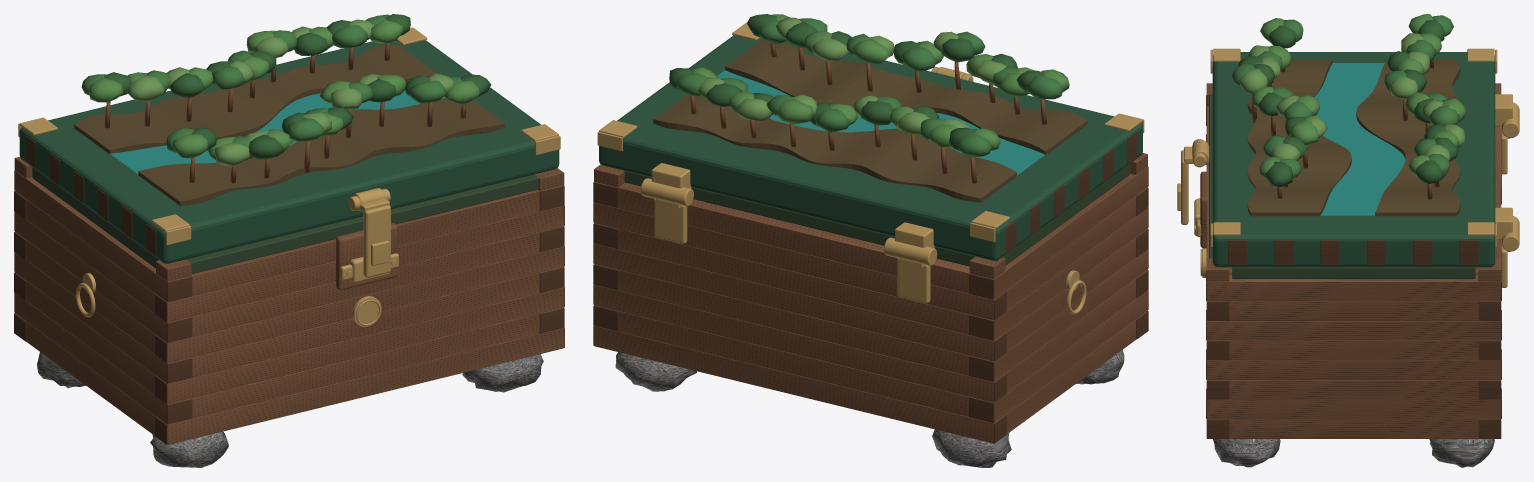
The model's file is brazil.glb.
3 views of the same model, side by side, from view 1: azimuth 30°, elevation 25°; view 2: azimuth 150°, elevation 25°; view 3: azimuth 270°, elevation 25° (orthographic). The views are drawn at different scales.
Visible parts, largest first — view 1: Lid / polished slab, Forest / bank -1, Forest / bank 1, Earthwood / front course 0, Earthwood / front course 2, Earthwood / front course 4, Earthwood / front course 1, Earthwood / front course 3, Earthwood / front course 6, Earthwood / front course 5, Earthwood / front course 7, Mineral seam / long (+31 smaller); view 2: Lid / polished slab, Forest / bank 1, Forest / bank -1, Earthwood / rear course 4, Earthwood / rear course 0, Earthwood / rear course 2, Earthwood / rear course 7, Earthwood / rear course 1, Earthwood / rear course 3, Earthwood / rear course 5, Earthwood / rear course 6, Earthwood / side course 7 (+31 smaller); view 3: Lid / polished slab, River / continuous channel, Forest / bank -1, Forest / bank 1, Earthwood / side course 7.001, Earthwood / side course 1.001, Earthwood / side course 3.001, Earthwood / side course 5.001, Earthwood / side course 4.001, Earthwood / side course 0.001, Earthwood / side course 2.001, Earthwood / side course 6.001 (+41 smaller).
Part boxes in pixels (<box>): Lid / polished slab: <box>19,40,559,263</box>; Forest / bank -1: <box>138,98,505,205</box>; Forest / bank 1: <box>74,45,436,154</box>; Earthwood / front course 0: <box>156,328,564,444</box>; Earthwood / front course 2: <box>156,287,564,404</box>; Earthwood / front course 4: <box>156,246,564,363</box>; Earthwood / front course 1: <box>191,313,539,418</box>; Earthwood / front course 3: <box>192,273,539,377</box>; Earthwood / front course 6: <box>156,206,564,322</box>; Earthwood / front course 5: <box>192,232,539,336</box>; Earthwood / front course 7: <box>191,190,539,296</box>; Mineral seam / long: <box>186,174,538,273</box>; Lid / polished slab: <box>599,35,1142,260</box>; Forest / bank 1: <box>653,94,1016,202</box>; Forest / bank -1: <box>725,40,1087,155</box>; Earthwood / rear course 4: <box>594,243,1005,361</box>; Earthwood / rear course 0: <box>594,325,1005,443</box>; Earthwood / rear course 2: <box>594,284,1005,402</box>; Earthwood / rear course 7: <box>618,183,969,293</box>; Earthwood / rear course 1: <box>618,311,969,416</box>; Earthwood / rear course 3: <box>618,270,969,375</box>; Earthwood / rear course 5: <box>618,229,969,334</box>; Earthwood / rear course 6: <box>594,202,1005,320</box>; Earthwood / side course 7: <box>969,167,1147,299</box>; Lid / polished slab: <box>1212,52,1495,267</box>; River / continuous channel: <box>1314,63,1405,215</box>; Forest / bank -1: <box>1247,60,1351,216</box>; Forest / bank 1: <box>1356,60,1460,216</box>; Earthwood / side course 7.001: <box>1206,274,1501,301</box>; Earthwood / side course 1.001: <box>1207,399,1500,419</box>; Earthwood / side course 3.001: <box>1207,360,1500,379</box>; Earthwood / side course 5.001: <box>1207,321,1500,340</box>; Earthwood / side course 4.001: <box>1229,340,1478,360</box>; Earthwood / side course 0.001: <box>1229,419,1478,438</box>; Earthwood / side course 2.001: <box>1229,380,1478,399</box>; Earthwood / side course 6.001: <box>1229,301,1478,320</box>.
Size of the model in its own units: 3.79 by 2.83 by 2.88.
Materials: 13 (3 with a texture image).
